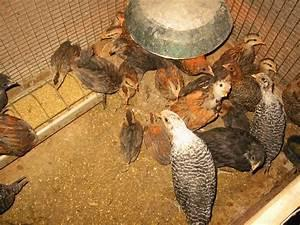hen: (152, 106, 220, 225), (202, 120, 269, 179), (251, 72, 292, 163), (108, 105, 147, 165)
